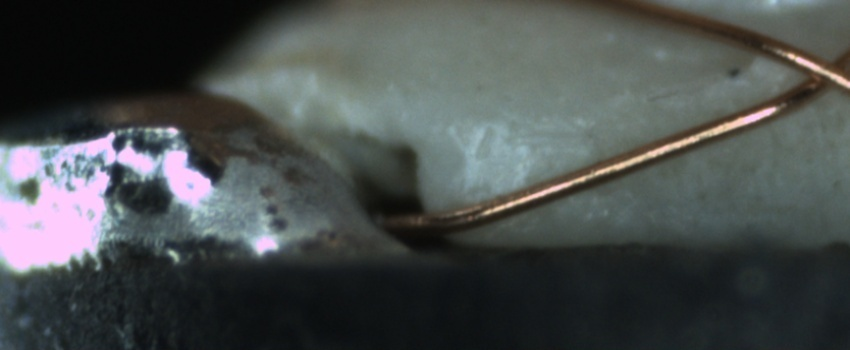CL: (776, 38, 850, 104)
DL: (498, 106, 595, 170)
